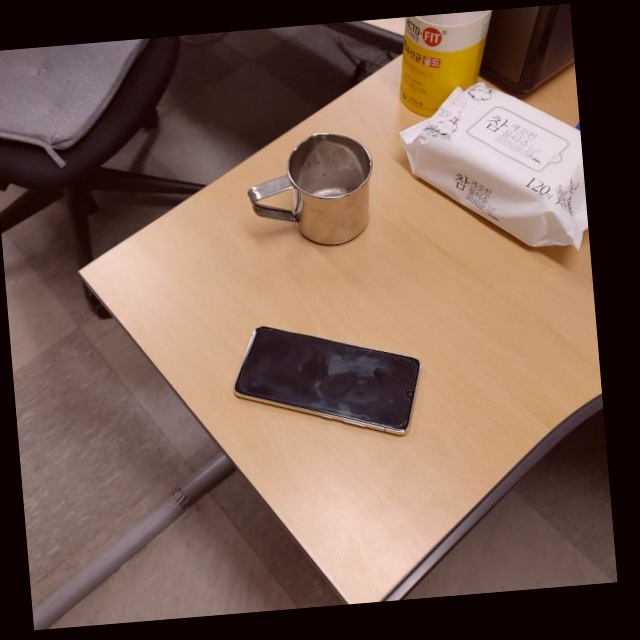cup: (242, 126, 381, 254)
phone: (227, 310, 428, 452)
